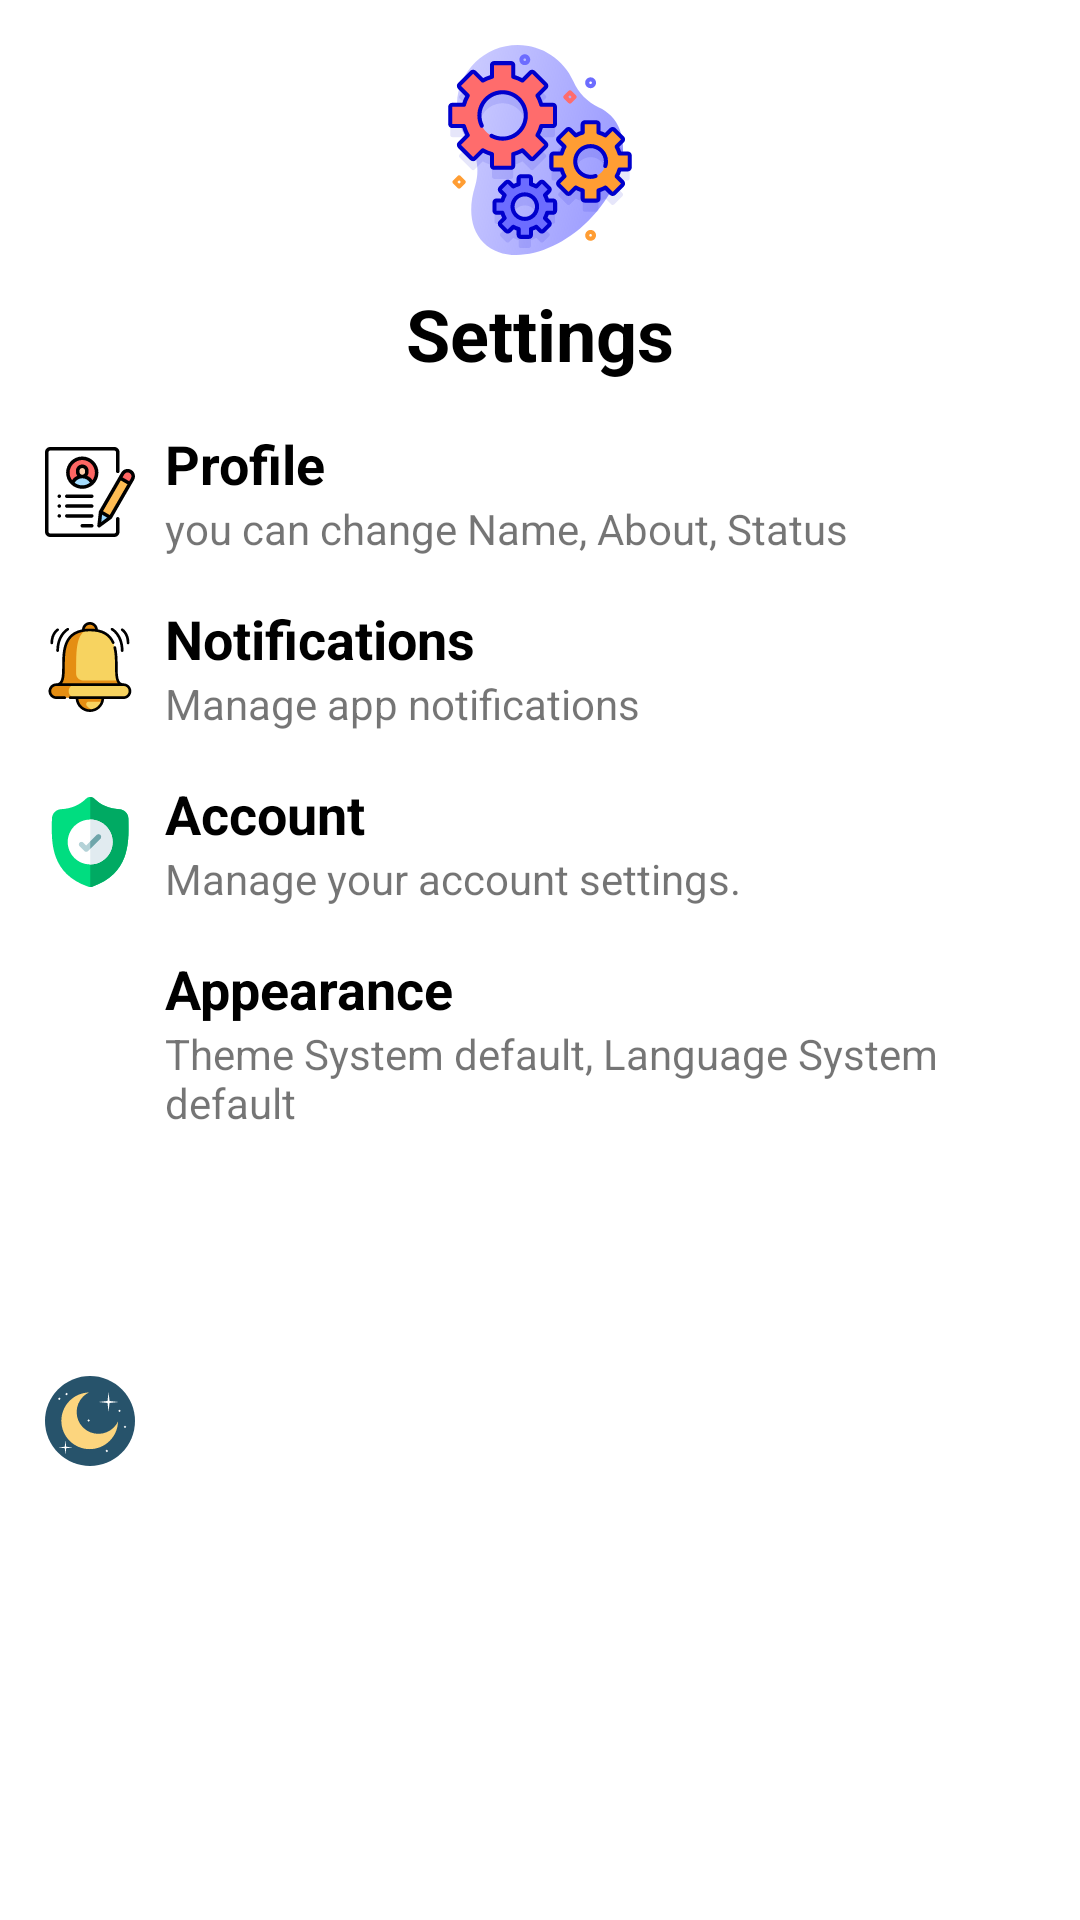

Icon click points for this 1080*1920 phone screenshot, format (x=x, y=y):
bell: (x=90, y=667)
half moon: (x=90, y=1421)
resume: (x=90, y=492)
shield: (x=90, y=842)
